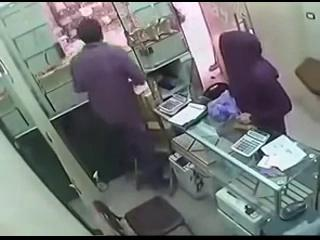Normal: (69, 17, 165, 190)
